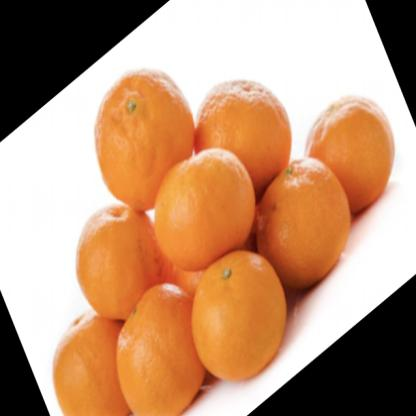orange: (89, 58, 194, 207), (189, 62, 297, 185), (193, 244, 286, 382), (261, 157, 351, 292), (160, 151, 258, 269), (118, 279, 200, 416), (62, 204, 157, 321), (305, 86, 395, 201), (34, 307, 125, 414)
